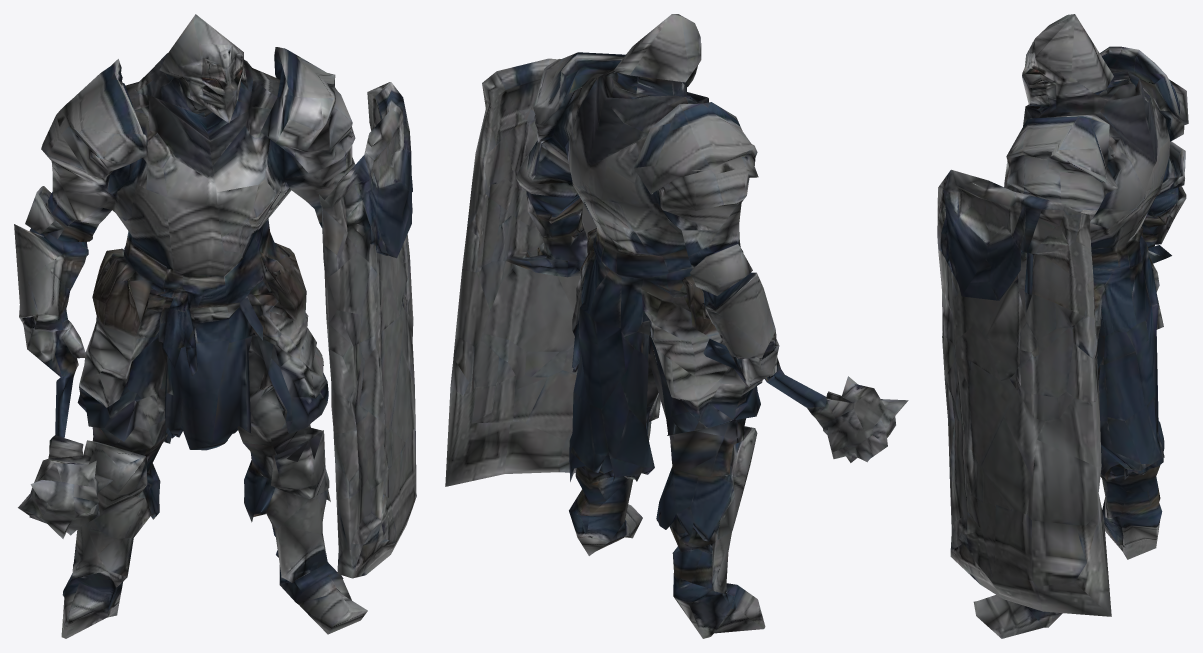
The model's file is guardian.glb.
3 renders of one model, left to right at view 1: azimuth 30°, elevation 25°; view 2: azimuth 150°, elevation 25°; view 3: azimuth 270°, elevation 25°, orthographic. The views are drawn at different scales.
Size of the model in its own units: 1.39 by 1.89 by 0.7556.
Materials: 1 (1 with a texture image).
